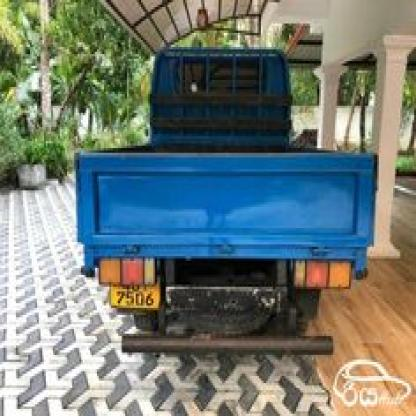Lorry back: (72, 32, 383, 360)
number plate: (104, 284, 159, 309)
